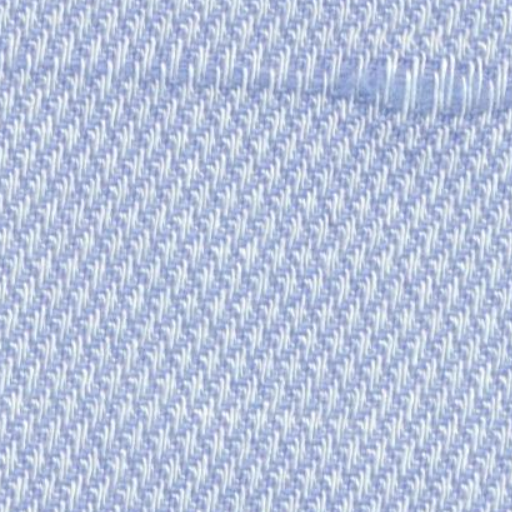DaiSha: (174, 38, 504, 126)
